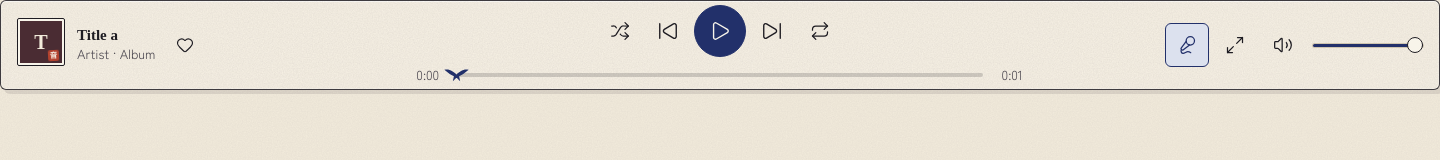
Test: PlayerBar › toggles play and pause labels
The width and height of the screenshot is (1440, 160).
Click the button named "Reproducir" at x=720, y=31, box [694,5,746,57]
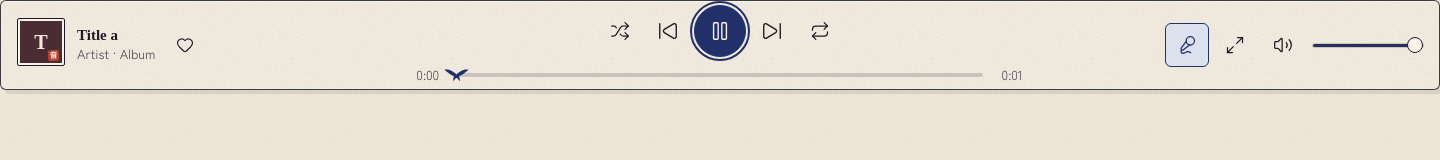
Now the button named "Pausar" is shown
Click the button named "Pausar" at x=720, y=31, box [694,5,746,57]
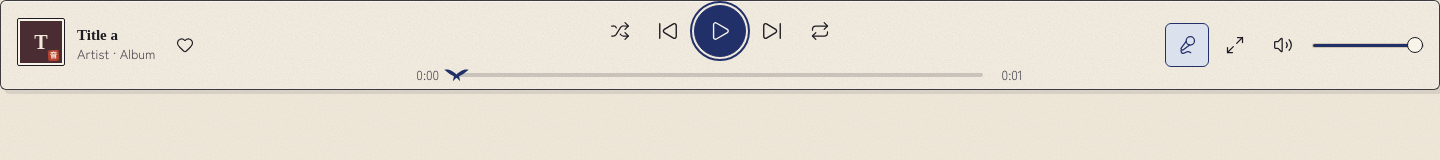
Now the button named "Reproducir" is shown, box [694,5,746,57]
